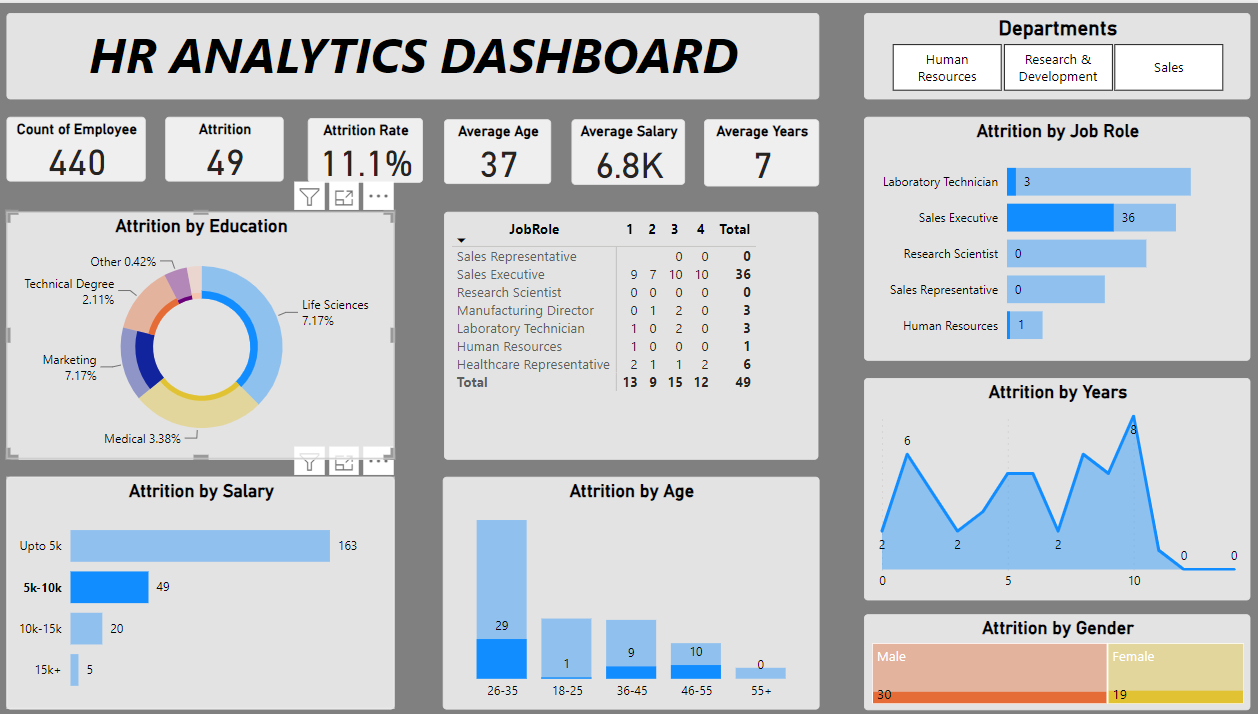

Layout of this report page (visuals, bound fields, positions):
{"tool":"powerbi","page":{"name":"Page 1","canvas":[1280,720],"ordinal":0},"visuals":[{"type":"card","title":"Count of Employee","fields":{"Values":["CountNonNull(HR_Analytics.EmpID)"]},"box":[17,113.8,139.4,64.9],"z":0},{"type":"card","title":"Attrition","fields":{"Values":["Sum(HR_Analytics.AttritionCount)"]},"box":[176.6,113.8,118.1,64.9],"z":1000},{"type":"card","title":"Attrition Rate","fields":{"Values":["HR_Analytics.AttritionRate"]},"box":[319.1,114.9,114.9,64.9],"z":2000},{"type":"card","title":"Average Age ","fields":{"Values":["Avg(HR_Analytics.Age)"]},"box":[455.3,116,107.4,64.9],"z":3000},{"type":"card","title":"Average Salary","fields":{"Values":["Avg(HR_Analytics.MonthlyIncome)"]},"box":[583,116,113.8,66],"z":4000},{"type":"card","title":"Average Years ","fields":{"Values":["Avg(HR_Analytics.YearsAtCompany)"]},"box":[714.9,116,114.9,67],"z":5000},{"type":"donutChart","title":"Attrition by Education","fields":{"Category":["HR_Analytics.EducationField"],"Y":["Sum(HR_Analytics.AttritionCount)"]},"box":[17,208.5,388.3,247.9],"z":6000},{"type":"columnChart","title":"Attrition by Age","fields":{"Category":["HR_Analytics.AgeGroup"],"Y":["Sum(HR_Analytics.AttritionCount)"]},"box":[453.2,473.4,376.6,233],"z":7000},{"type":"pivotTable","fields":{"Rows":["HR_Analytics.JobRole"],"Columns":["HR_Analytics.JobSatisfaction"],"Values":["Sum(HR_Analytics.AttritionCount)"]},"box":[455.3,208.5,374.5,247.9],"z":8000},{"type":"barChart","title":"Attrition by Salary","fields":{"Category":["HR_Analytics.SalarySlab"],"Y":["Sum(HR_Analytics.AttritionCount)"]},"box":[17,473.4,388.3,233],"z":9000},{"type":"barChart","title":"Attrition by Job Role","fields":{"Category":["HR_Analytics.JobRole"],"Y":["Sum(HR_Analytics.AttritionCount)"]},"box":[875.5,113.8,386.2,243.6],"z":10000},{"type":"areaChart","title":"Attrition by Years","fields":{"Category":["HR_Analytics.YearsAtCompany"],"Y":["Sum(HR_Analytics.AttritionCount)"]},"box":[875,375,386.2,222.5],"z":11000},{"type":"treemap","title":"Attrition by Gender","fields":{"Group":["HR_Analytics.Gender"],"Values":["Sum(HR_Analytics.AttritionCount)"]},"box":[875.5,610.6,386.2,95.7],"z":12000},{"type":"slicer","title":"Departments","fields":{"Values":["HR_Analytics.Department"]},"box":[875.5,9.6,386.2,86.2],"z":13000},{"type":"textbox","box":[17,9.6,812.8,86.2],"z":14000}]}

Visuals, with their boxes in screenshot pixels (x1, y1, x2, y2), scaled from the page's 1280x720 canvas onto the 1258x714 screenshot:
"Count of Employee" card: l=17, t=113, r=154, b=177
"Attrition" card: l=174, t=113, r=290, b=177
"Attrition Rate" card: l=314, t=114, r=427, b=178
"Average Age " card: l=447, t=115, r=553, b=179
"Average Salary" card: l=573, t=115, r=685, b=180
"Average Years " card: l=703, t=115, r=816, b=181
"Attrition by Education" donutChart: l=17, t=207, r=398, b=453
"Attrition by Age" columnChart: l=445, t=469, r=816, b=701
pivotTable - HR_Analytics.JobRole x HR_Analytics.JobSatisfaction: l=447, t=207, r=816, b=453
"Attrition by Salary" barChart: l=17, t=469, r=398, b=701
"Attrition by Job Role" barChart: l=860, t=113, r=1240, b=354
"Attrition by Years" areaChart: l=860, t=372, r=1240, b=593
"Attrition by Gender" treemap: l=860, t=606, r=1240, b=700
"Departments" slicer: l=860, t=10, r=1240, b=95
textbox: l=17, t=10, r=816, b=95
